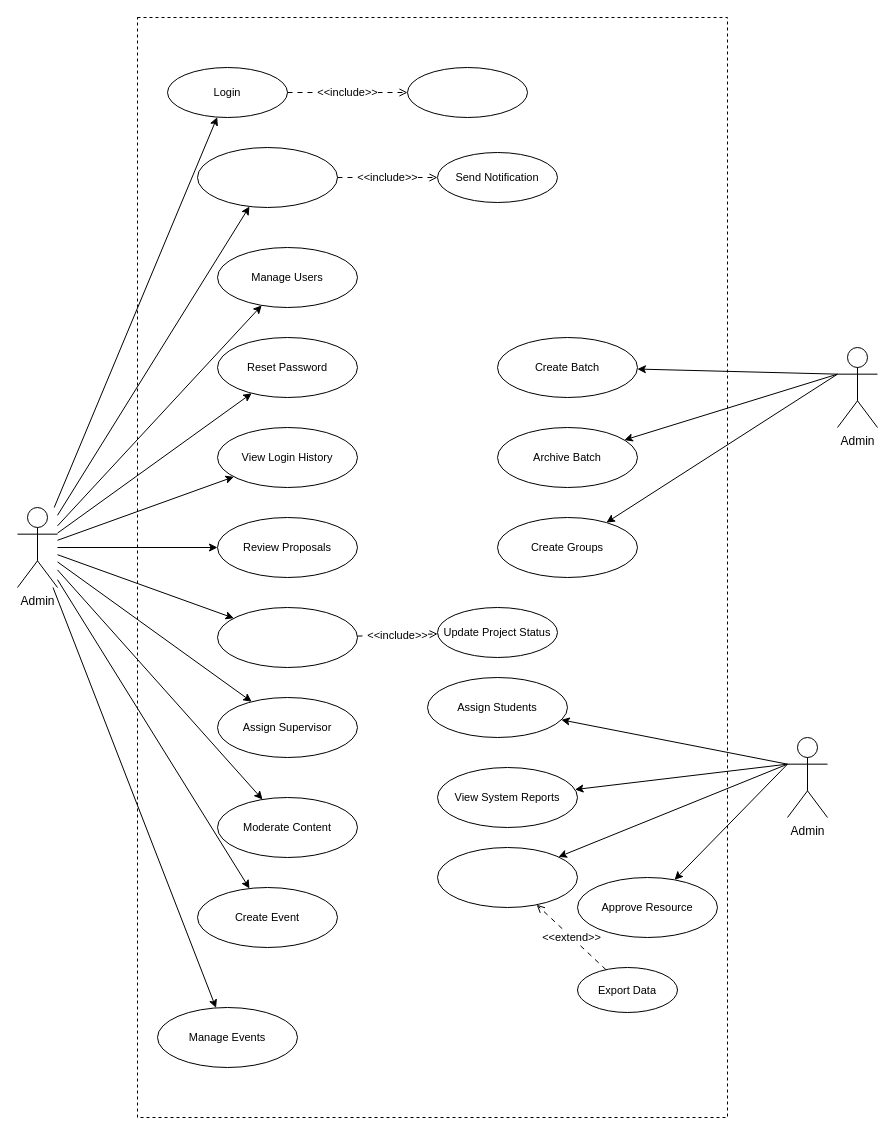
This 895x1135 diagram has some shape labels left out. The shapes that lost their labels are listed below. From the top down, each one's centre as x and y in pixels, then its label:
the point at 467,92: Authenticate User
the point at 267,177: Create User Account
the point at 287,637: Approve/Reject Project
the point at 507,877: Generate Analytics
